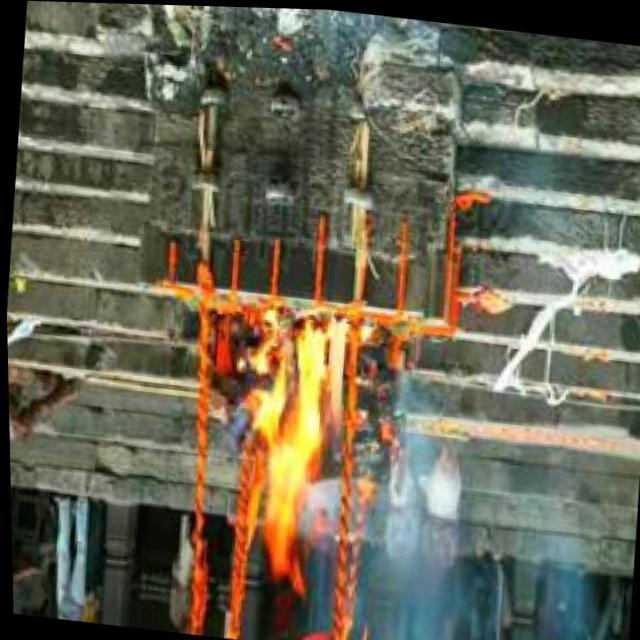Fire: (227, 301, 359, 571)
